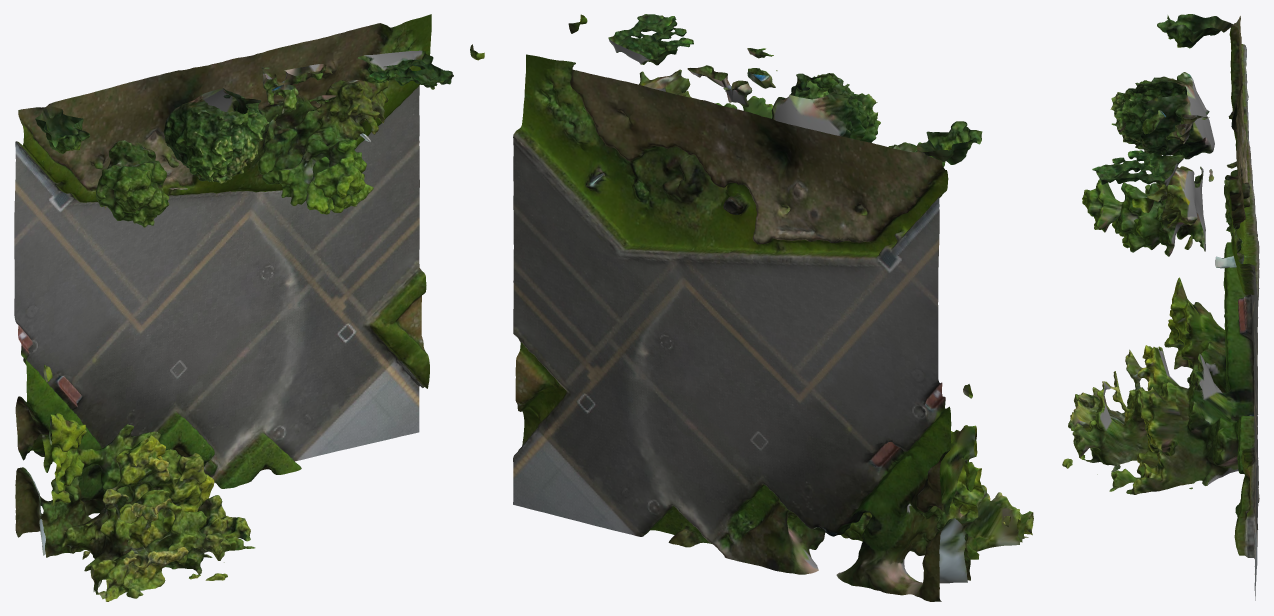
File: Tile_+007_+021.fbx
3 renders of one model, left to right at view 1: azimuth 30°, elevation 25°; view 2: azimuth 150°, elevation 25°; view 3: azimuth 270°, elevation 25°, orthographic. The views are drawn at different scales.
Visible parts, largest first — view 1: DefaultName; view 2: DefaultName; view 3: DefaultName.
Part boxes in pixels (left/top/right/bottom): DefaultName: left=14, top=14, right=484, bottom=601; DefaultName: left=513, top=14, right=1033, bottom=601; DefaultName: left=1062, top=14, right=1259, bottom=600.
Size of the model in its own units: 22.54 by 22.54 by 10.04.
